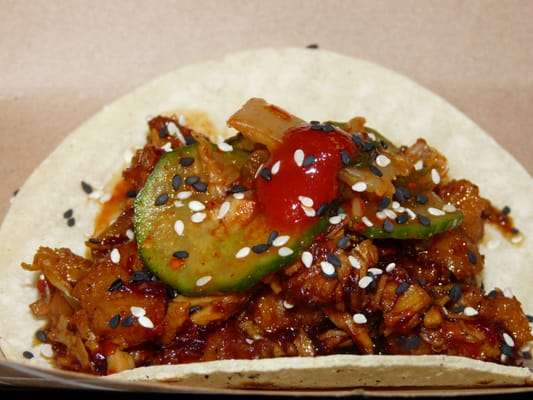curry: (1, 0, 531, 395)
sandwich: (2, 80, 532, 381)
